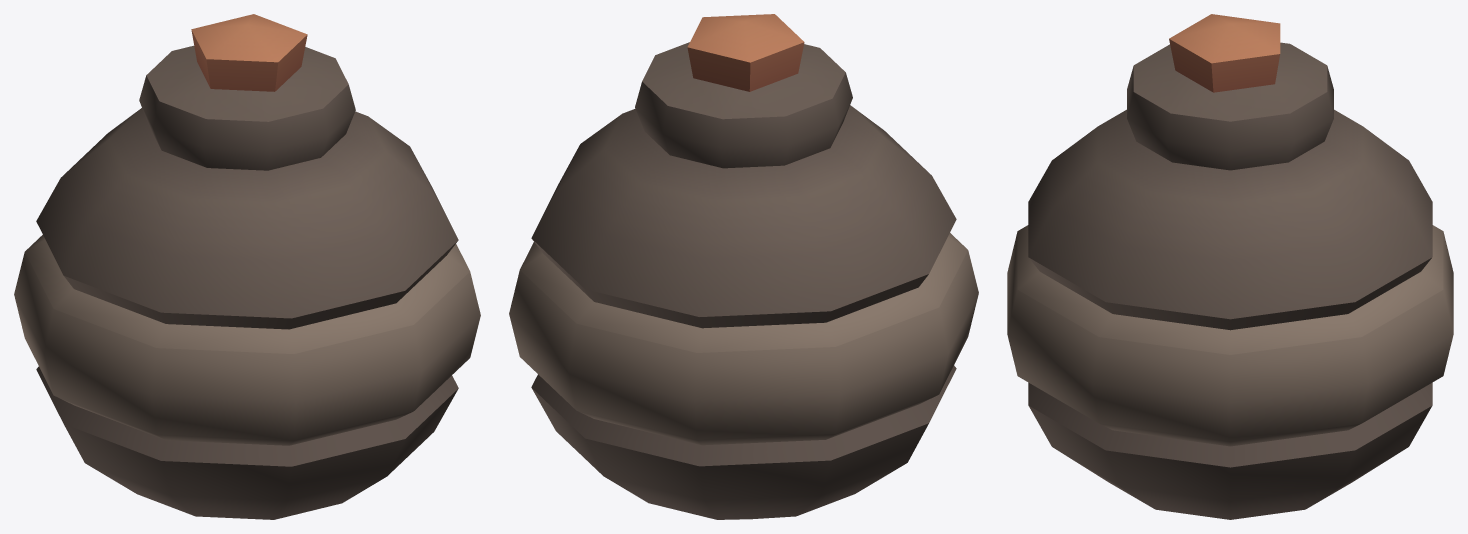
The model's file is weapon_smokebomb.glb.
3 views of the same model, side by side, from view 1: azimuth 30°, elevation 25°; view 2: azimuth 150°, elevation 25°; view 3: azimuth 270°, elevation 25° (orthographic).
Visible parts, largest first — view 1: smokebomb; view 2: smokebomb; view 3: smokebomb.
Boxes of the visible parts, x1,y1,x2,y2 form: smokebomb: (14, 14, 480, 519); smokebomb: (509, 14, 978, 519); smokebomb: (1007, 14, 1453, 519).
Bounding box in the file's own units: 0.3826 × 0.4231 × 0.3638.
1 material, 1 textured.
